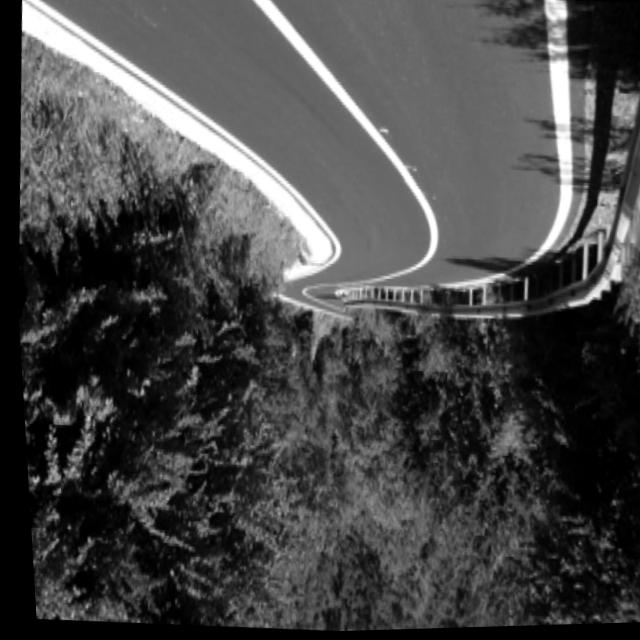cleat: (191, 0, 638, 438)
